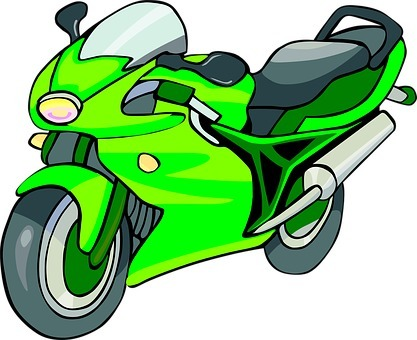motorbike: (3, 4, 409, 335)
